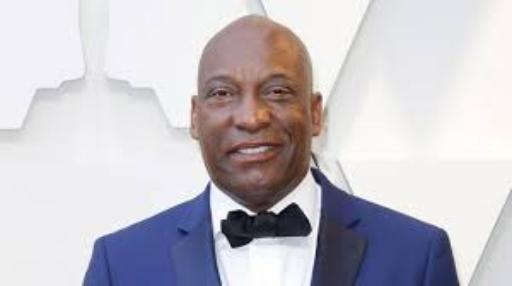left_eye: (265, 88, 298, 99)
left_lip_corner: (277, 142, 291, 152)
right_eye: (206, 89, 240, 101)
right_lip_corner: (224, 147, 237, 159)
